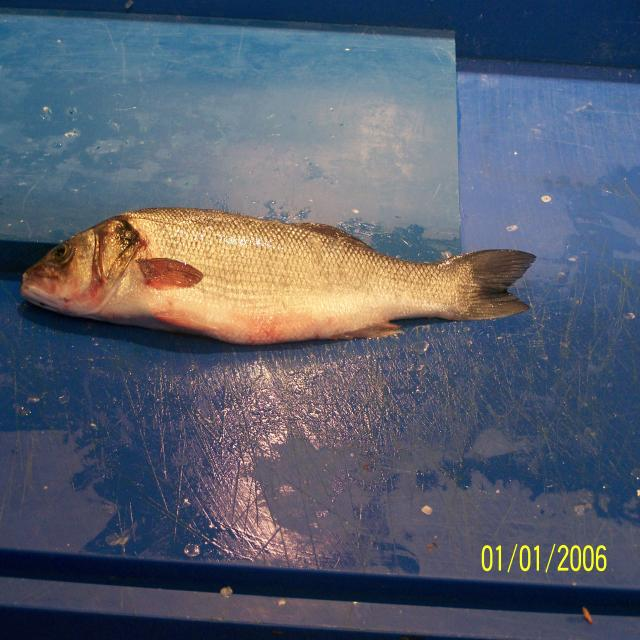Sea-Bass-levrek-: (20, 208, 536, 348)
